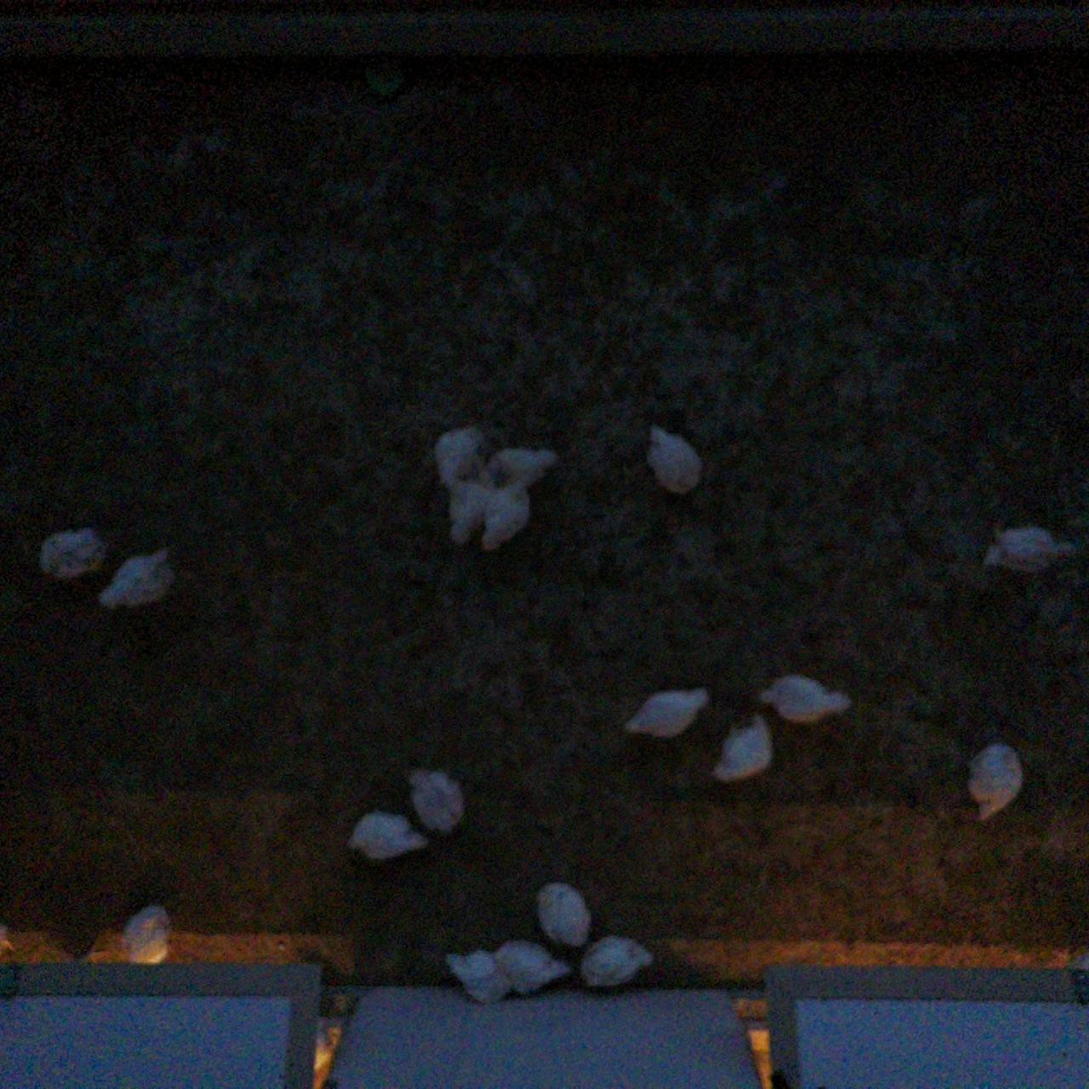chicken: (96, 542, 186, 611), (980, 520, 1079, 579), (757, 669, 855, 726), (622, 682, 713, 742), (965, 738, 1028, 824), (30, 524, 113, 588), (641, 420, 708, 498), (343, 806, 432, 863), (707, 714, 777, 785), (402, 762, 468, 836), (531, 876, 596, 950), (476, 476, 533, 557), (430, 422, 494, 493), (495, 938, 573, 996), (442, 946, 516, 1007), (578, 932, 658, 988), (439, 474, 495, 551), (116, 900, 178, 966), (486, 446, 559, 486)
